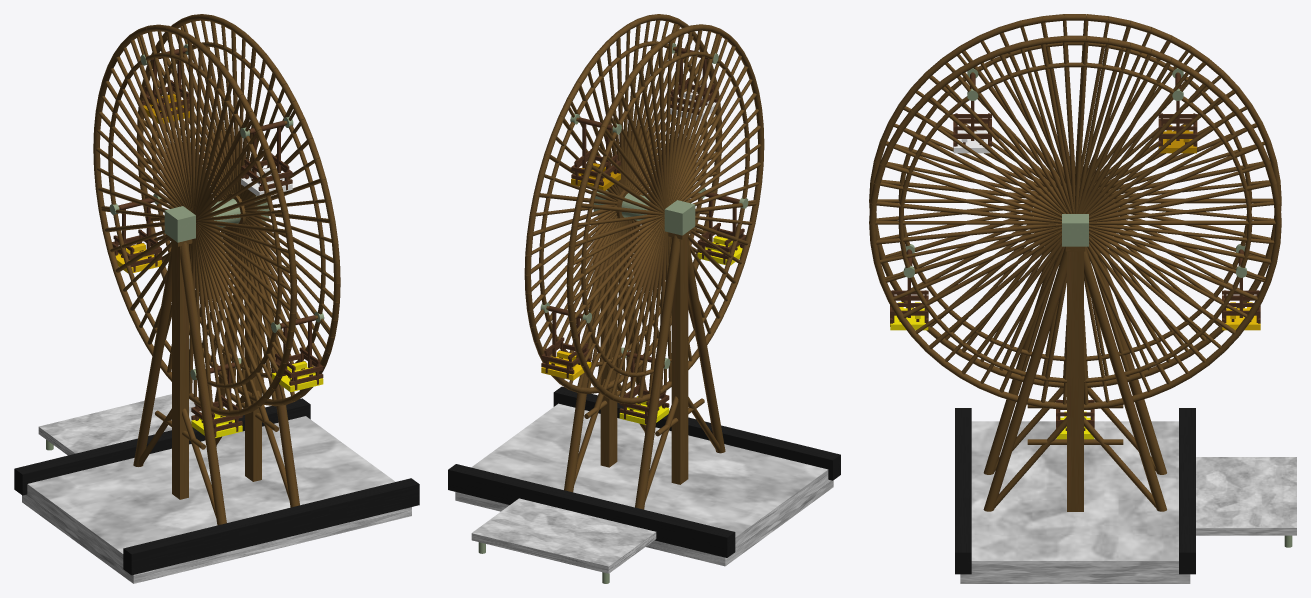
The model's file is ferris_wheel__0001.glb.
3 views of the same model, side by side, from view 1: azimuth 30°, elevation 25°; view 2: azimuth 150°, elevation 25°; view 3: azimuth 270°, elevation 25° (orthographic). The views are drawn at different scales.
Parts seen in each view (by area): view 1: support_frame::platform_slab, support_frame::rear_curbstone, support_frame::boarding_bridge, support_frame::left_hidden_core, support_frame::front_curbstone, support_frame::left_rear_a_leg, support_frame::left_front_a_leg, support_frame::right_hidden_core, support_frame::right_rear_a_leg, support_frame::left_bearing_block, wheel::rear_spoke_10, wheel::rear_spoke_38 (+28 smaller); view 2: support_frame::platform_slab, support_frame::boarding_bridge, support_frame::front_curbstone, support_frame::left_hidden_core, support_frame::rear_curbstone, support_frame::left_front_a_leg, support_frame::left_rear_a_leg, support_frame::right_hidden_core, support_frame::right_front_a_leg, support_frame::left_bearing_block, wheel::rear_spoke_18, wheel::rear_spoke_20 (+27 smaller); view 3: support_frame::platform_slab, support_frame::boarding_bridge, support_frame::right_hidden_core, support_frame::front_curbstone, support_frame::rear_curbstone, support_frame::right_rear_a_leg, support_frame::right_front_a_leg, support_frame::left_rear_a_leg, support_frame::left_front_a_leg, wheel::front_spoke_2, wheel::front_spoke_30, wheel::front_spoke_28 (+59 smaller).
Boxes of the visible parts, x1=… form: support_frame::platform_slab: x1=22, y1=416, x2=411, y2=583; support_frame::rear_curbstone: x1=123, y1=478, x2=419, y2=575; support_frame::boarding_bridge: x1=38, y1=394, x2=201, y2=455; support_frame::left_hidden_core: x1=172, y1=242, x2=188, y2=499; support_frame::front_curbstone: x1=14, y1=398, x2=310, y2=495; support_frame::left_rear_a_leg: x1=180, y1=242, x2=226, y2=525; support_frame::left_front_a_leg: x1=133, y1=245, x2=171, y2=466; support_frame::right_hidden_core: x1=245, y1=289, x2=261, y2=481; support_frame::right_rear_a_leg: x1=262, y1=287, x2=299, y2=507; support_frame::left_bearing_block: x1=164, y1=206, x2=195, y2=242; wheel::rear_spoke_10: x1=147, y1=31, x2=191, y2=211; wheel::rear_spoke_38: x1=196, y1=229, x2=251, y2=406; support_frame::platform_slab: x1=455, y1=403, x2=833, y2=566; support_frame::boarding_bridge: x1=471, y1=498, x2=656, y2=573; support_frame::front_curbstone: x1=448, y1=464, x2=735, y2=557; support_frame::left_hidden_core: x1=671, y1=235, x2=688, y2=484; support_frame::rear_curbstone: x1=553, y1=386, x2=840, y2=480; support_frame::left_front_a_leg: x1=635, y1=235, x2=679, y2=509; support_frame::left_rear_a_leg: x1=688, y1=239, x2=725, y2=453; support_frame::right_hidden_core: x1=600, y1=282, x2=617, y2=467; support_frame::right_front_a_leg: x1=564, y1=275, x2=599, y2=492; support_frame::left_bearing_block: x1=664, y1=200, x2=695, y2=235; wheel::rear_spoke_18: x1=668, y1=30, x2=702, y2=206; wheel::rear_spoke_20: x1=669, y1=34, x2=720, y2=205; support_frame::platform_slab: x1=960, y1=421, x2=1190, y2=583; support_frame::boarding_bridge: x1=1196, y1=457, x2=1296, y2=535; support_frame::right_hidden_core: x1=1067, y1=251, x2=1083, y2=511; support_frame::front_curbstone: x1=1179, y1=408, x2=1195, y2=574; support_frame::rear_curbstone: x1=955, y1=408, x2=971, y2=574; support_frame::right_rear_a_leg: x1=983, y1=246, x2=1066, y2=511; support_frame::right_front_a_leg: x1=1084, y1=247, x2=1166, y2=511; support_frame::left_rear_a_leg: x1=983, y1=254, x2=1055, y2=474; support_frame::left_front_a_leg: x1=1093, y1=254, x2=1166, y2=474; wheel::front_spoke_2: x1=1089, y1=182, x2=1271, y2=221; wheel::front_spoke_30: x1=876, y1=223, x2=1061, y2=244; wheel::front_spoke_28: x1=876, y1=201, x2=1061, y2=223.
Size of the model in its own units: 1.22 by 1.92 by 1.53.
Materials: 10 (6 with a texture image).
